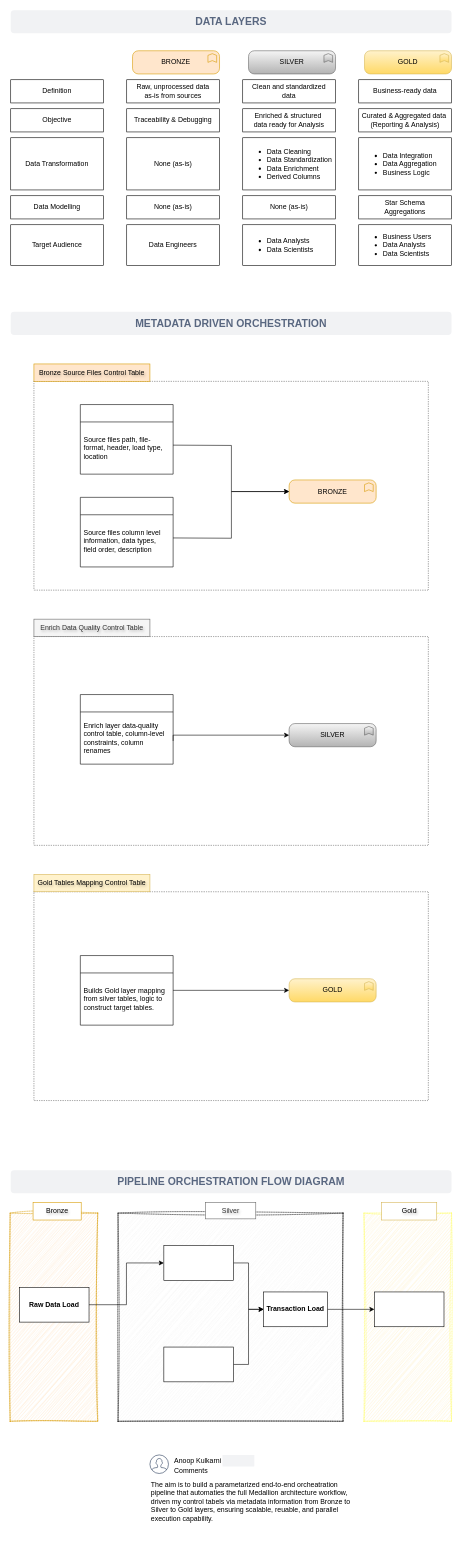
This 462x1556 diagram has some shape labels left out. Here are the shapes that lost their labels. From the top down, the box of each, then its label:
(80, 404, 173, 474): Source_File_Details
(80, 497, 173, 567): Source_File_Specifications
(80, 694, 173, 764): Enrich_Table_Constraints
(80, 955, 173, 1025): Curated_Table_Mapping
(163, 1245, 233, 1280): Investor Load
(374, 1291, 444, 1327): Gold Load Star Schema
(163, 1346, 233, 1382): Investment Load
(222, 1455, 254, 1466): AUTHOR
